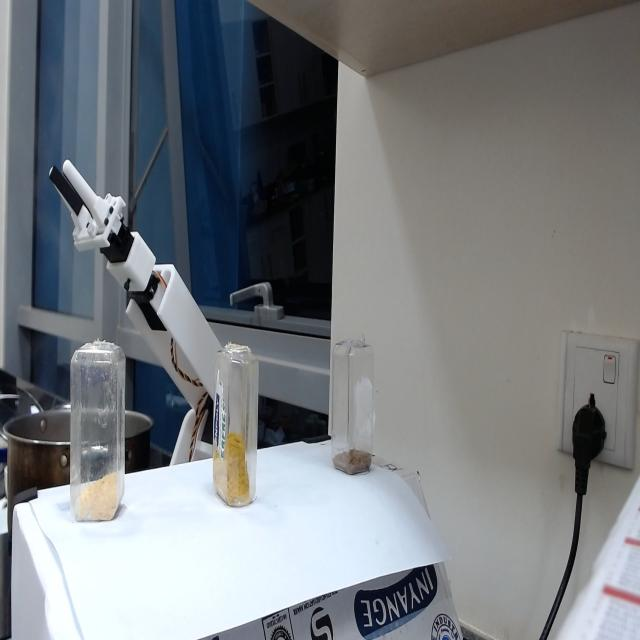curry_powder: (214, 432, 254, 505)
garlic_powder: (76, 480, 121, 525)
maggie_open: (335, 449, 374, 477)
